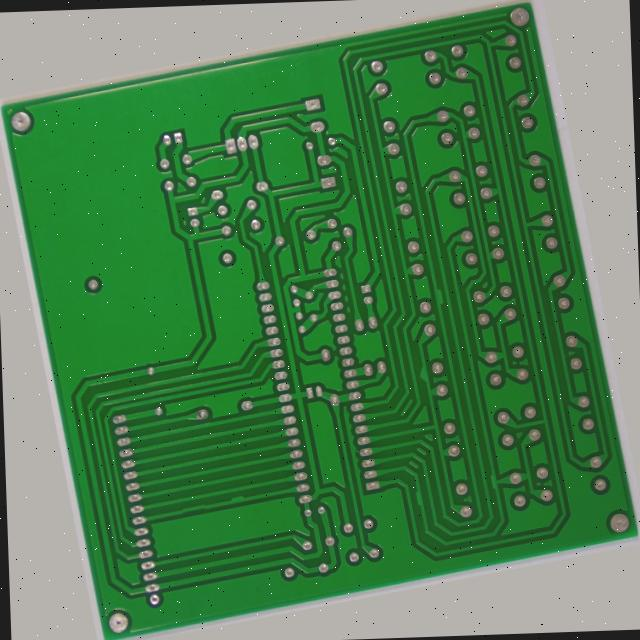spur: (418, 382, 435, 413), (478, 519, 492, 545), (182, 499, 205, 513), (451, 301, 465, 323), (390, 527, 405, 547)
